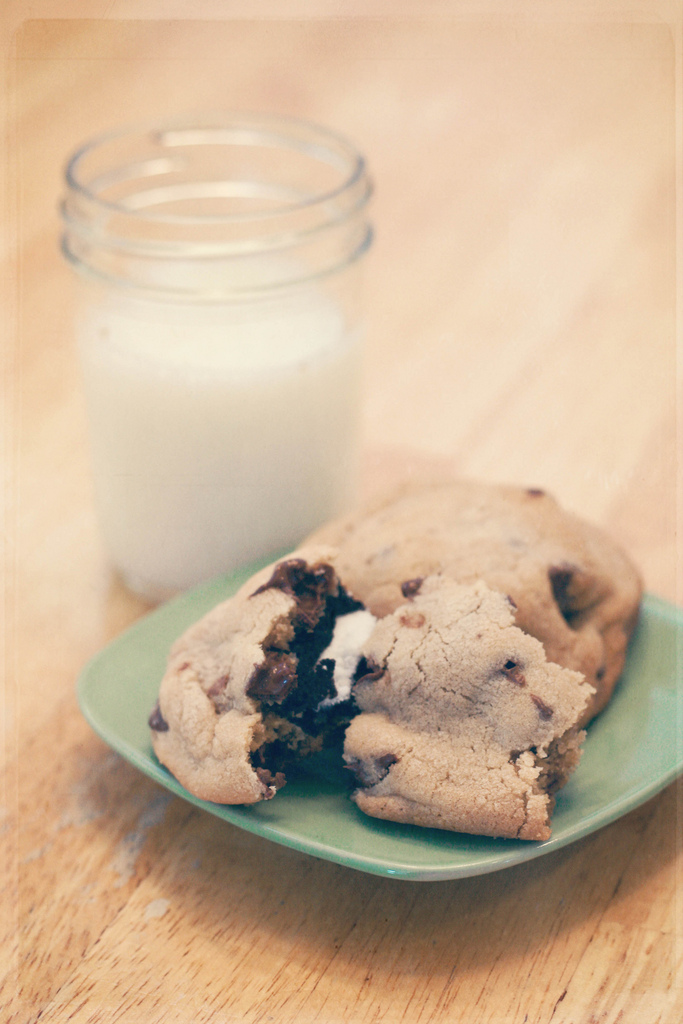glass of milk: (69, 102, 381, 613)
